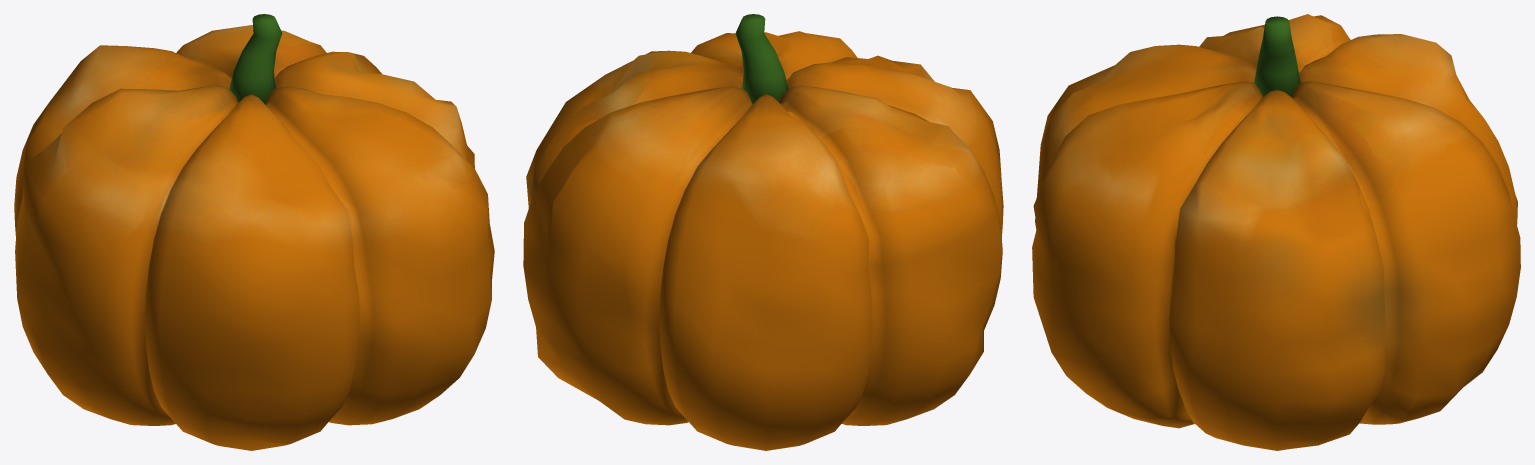
Rendered from FBXcitrouille.fbx.
3 views of the same model, side by side, from view 1: azimuth 30°, elevation 25°; view 2: azimuth 150°, elevation 25°; view 3: azimuth 270°, elevation 25° (orthographic).
Parts seen in each view (by area): view 1: Citrouille; view 2: Citrouille; view 3: Citrouille.
Part boxes in pixels (left/top/right/bottom): Citrouille: left=14, top=14, right=494, bottom=450; Citrouille: left=523, top=14, right=1003, bottom=450; Citrouille: left=1032, top=14, right=1520, bottom=450.
Bounding box in the file's own units: 178 × 147 × 171.
